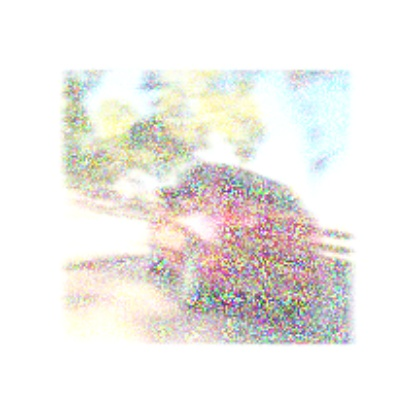Vehicle: (144, 160, 332, 333)
